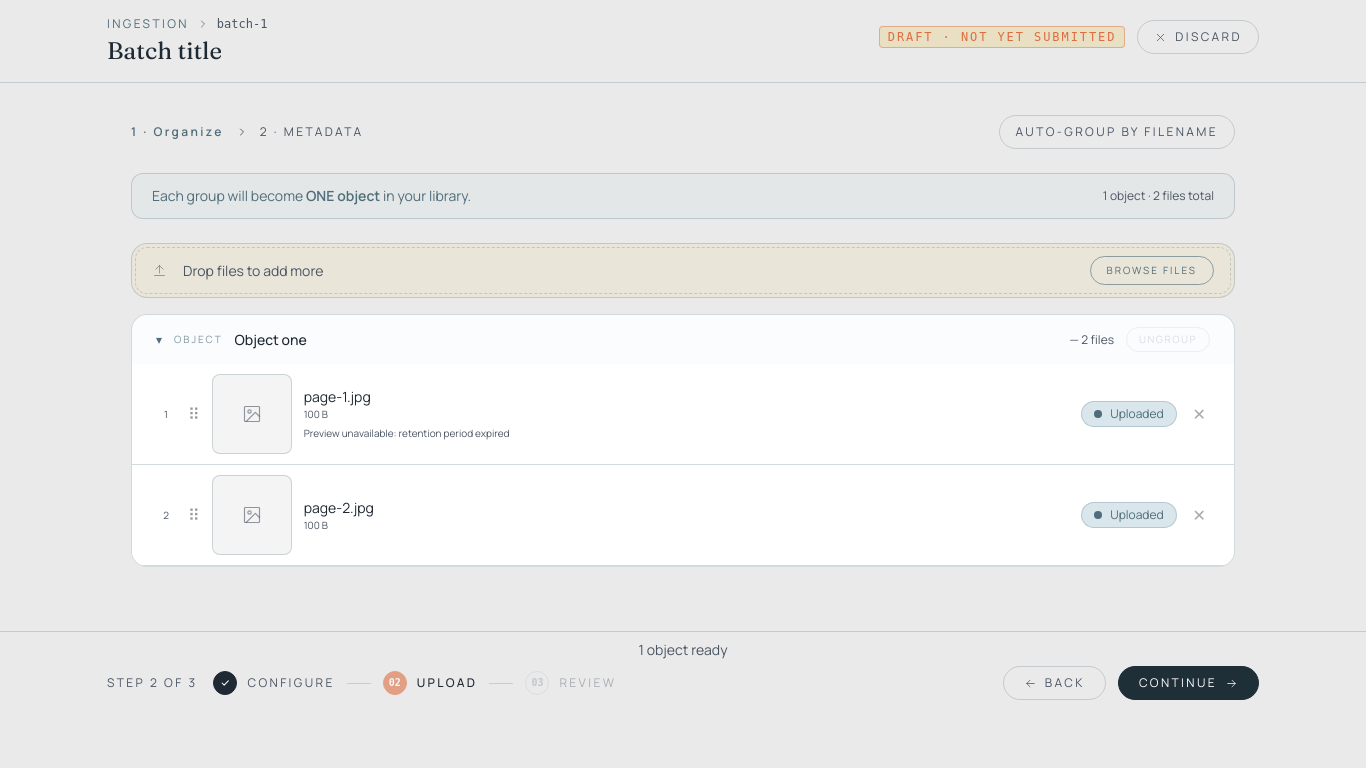
Test case: /ingestion/[batchId]/setup +page.svelte › does not poll for purged or unsupported previews
The image size is (1366, 768).
Click the button "Continue": (1188, 683) [1118,666,1259,700]
Wait 300 ms
(page scrolled)
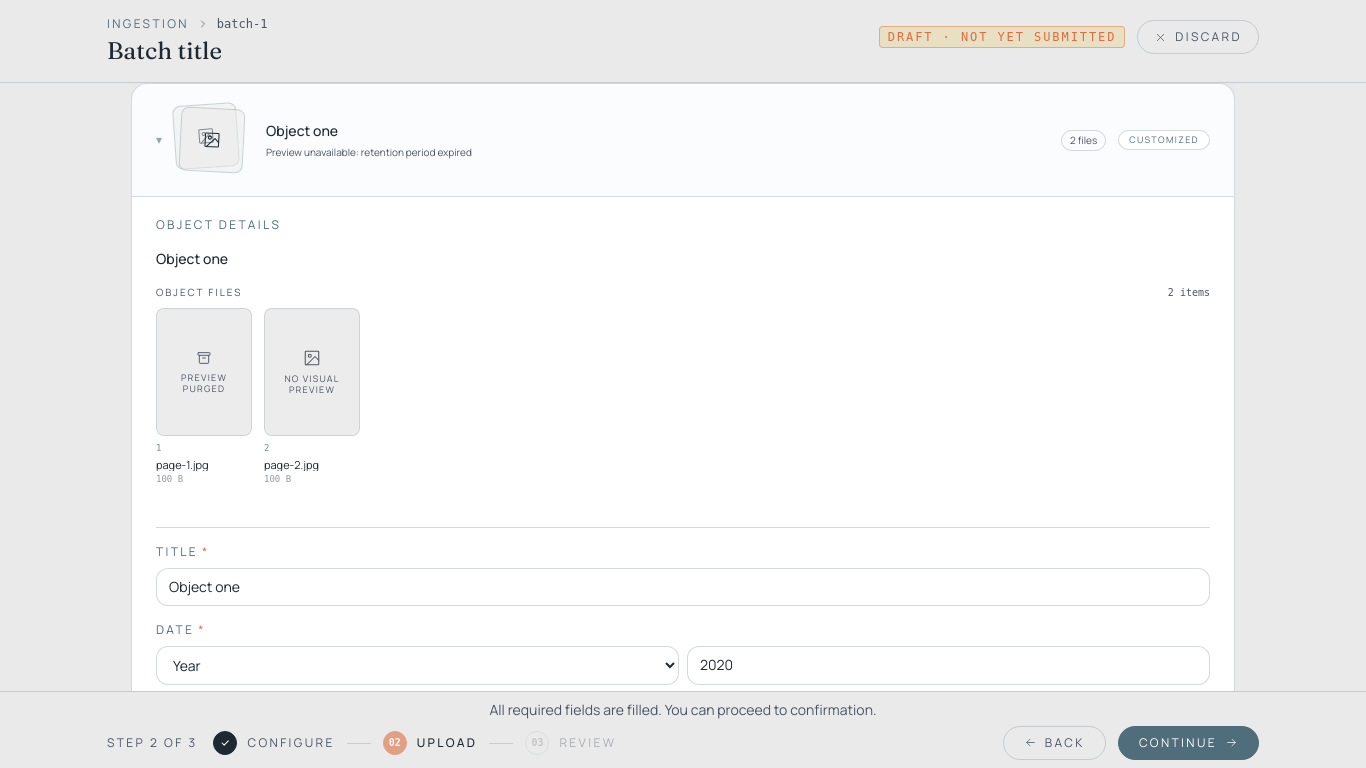
Now the text "Preview purged" is shown, box [181,371,227,395]
Now the text "No visual preview" is shown, box [284,372,340,396]
